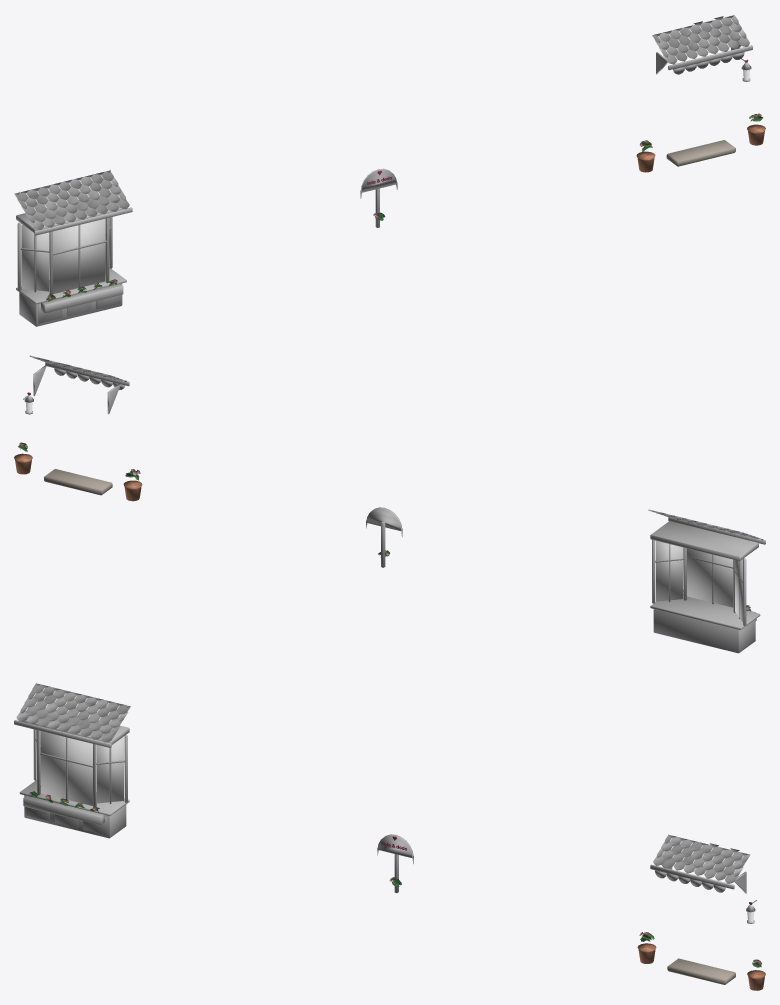
File: bld_home_facade.glb
The picture shows the model from 3 angles, top to bottom: view 1: azimuth 30°, elevation 25°; view 2: azimuth 150°, elevation 25°; view 3: azimuth 330°, elevation 25°; orthographic projection.
Parts seen in each view (by area): view 1: INST_bld_home_facade_bay_s_glass, INST_bld_home_facade_bay_s_trim, INST_bld_home_facade_bay_s_roof, INST_bld_home_facade_side_porch_s_roof, INST_bld_home_facade_side_porch_s_fixed, INST_bld_home_facade_bay_s_box, INST_bld_home_facade_side_porch_s_fascia, INST_bld_home_facade_names_board_s_body; view 2: INST_bld_home_facade_bay_s_trim, INST_bld_home_facade_bay_s_glass, INST_bld_home_facade_side_porch_s_fixed, INST_bld_home_facade_side_porch_s_fascia, INST_bld_home_facade_names_board_s_body; view 3: INST_bld_home_facade_bay_s_glass, INST_bld_home_facade_bay_s_trim, INST_bld_home_facade_bay_s_roof, INST_bld_home_facade_side_porch_s_roof, INST_bld_home_facade_side_porch_s_fixed, INST_bld_home_facade_bay_s_box, INST_bld_home_facade_side_porch_s_fascia, INST_bld_home_facade_names_board_s_body.
Boxes of the visible parts, x1,y1,x2,y2 form: INST_bld_home_facade_bay_s_glass: (21, 217, 110, 293); INST_bld_home_facade_bay_s_trim: (16, 195, 126, 326); INST_bld_home_facade_bay_s_roof: (14, 170, 129, 229); INST_bld_home_facade_side_porch_s_roof: (652, 15, 749, 64); INST_bld_home_facade_side_porch_s_fixed: (636, 59, 765, 172); INST_bld_home_facade_bay_s_box: (41, 283, 123, 313); INST_bld_home_facade_side_porch_s_fascia: (668, 45, 752, 74); INST_bld_home_facade_names_board_s_body: (360, 168, 397, 198); INST_bld_home_facade_bay_s_trim: (650, 521, 760, 653); INST_bld_home_facade_bay_s_glass: (656, 541, 742, 621); INST_bld_home_facade_side_porch_s_fixed: (14, 392, 142, 501); INST_bld_home_facade_side_porch_s_fascia: (45, 362, 129, 389); INST_bld_home_facade_names_board_s_body: (366, 507, 402, 537); INST_bld_home_facade_bay_s_glass: (36, 730, 123, 805); INST_bld_home_facade_bay_s_trim: (19, 707, 129, 838); INST_bld_home_facade_bay_s_roof: (16, 683, 130, 742); INST_bld_home_facade_side_porch_s_roof: (653, 834, 750, 883); INST_bld_home_facade_side_porch_s_fixed: (637, 902, 765, 990); INST_bld_home_facade_bay_s_box: (23, 795, 104, 825); INST_bld_home_facade_side_porch_s_fascia: (650, 864, 734, 892); INST_bld_home_facade_names_board_s_body: (377, 834, 413, 864).
Bounding box in the file's own units: 18.85 × 3.07 × 1.02.
